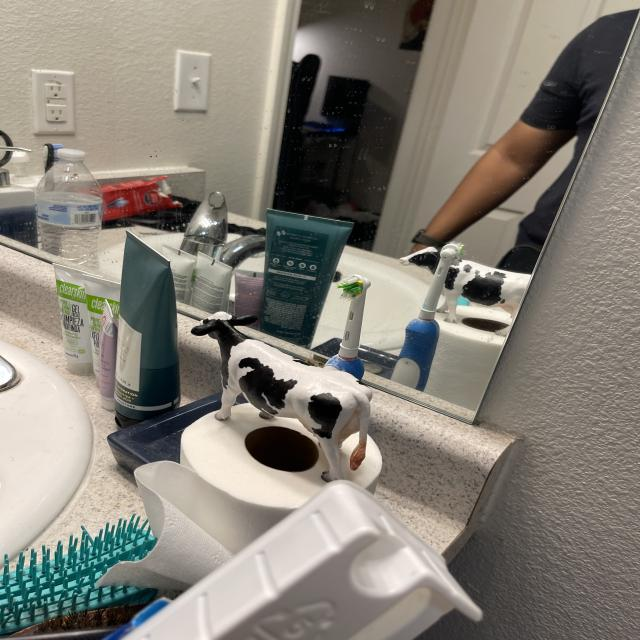cow: (160, 297, 397, 491)
